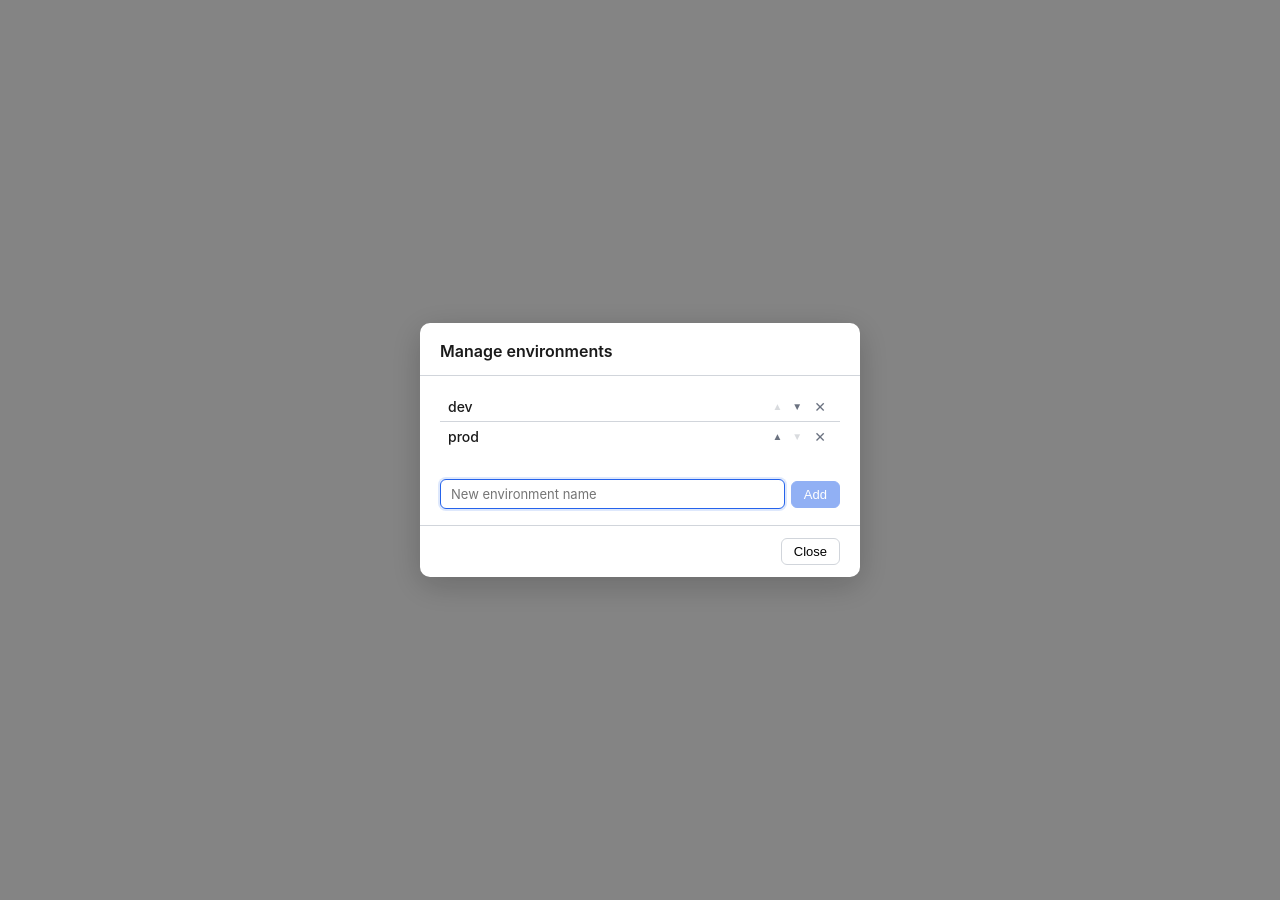
it: ManageEnvironmentsDialog › Add button disabled when name contains slash
Type "dev/test" into the field with placeholder "New environment name" at [612, 494], box [440,479,785,509]
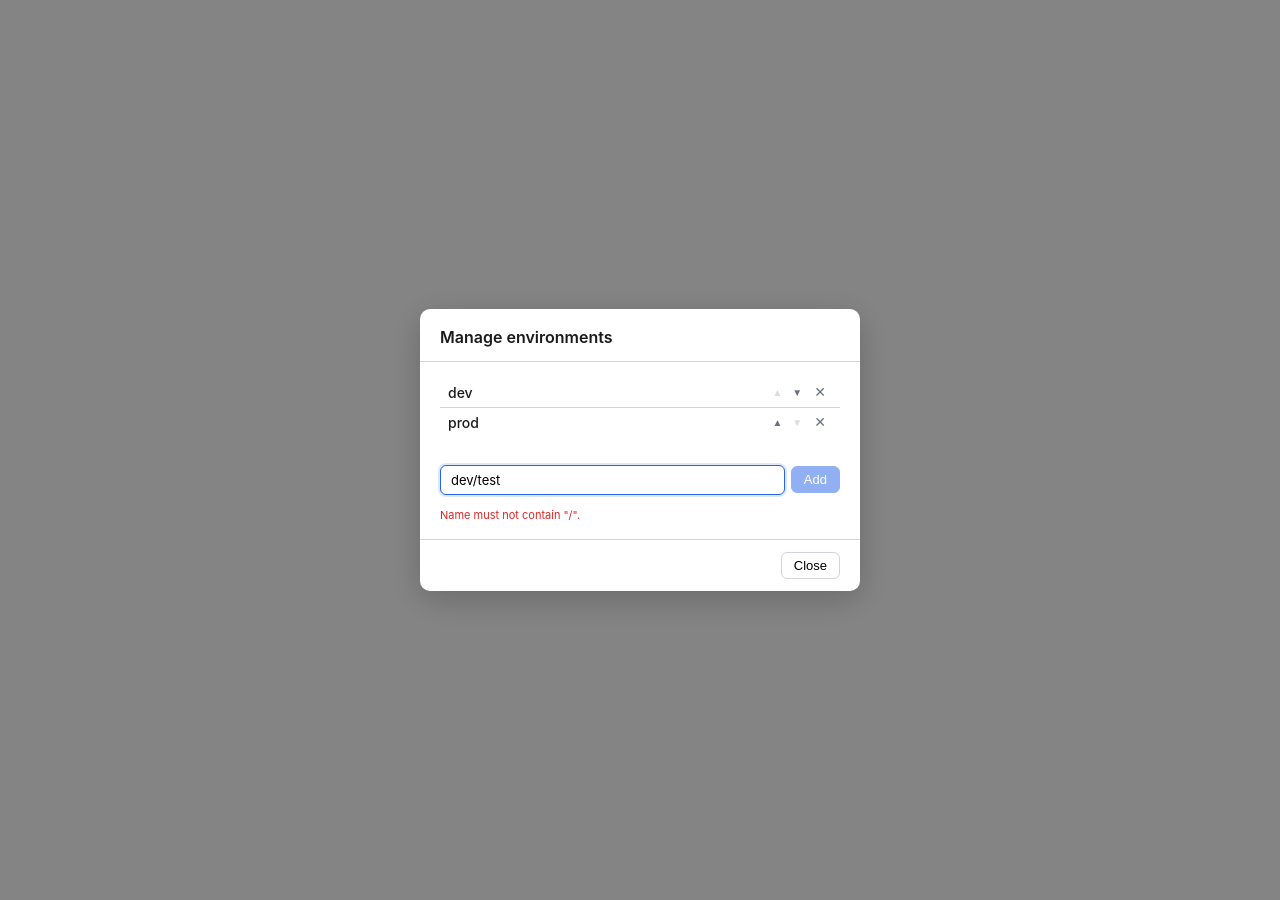
Expected: the button "Add" is disabled, [791,466,840,493]
Expected: the text "Name must not contain \"/\"." is shown, [440,508,580,522]
